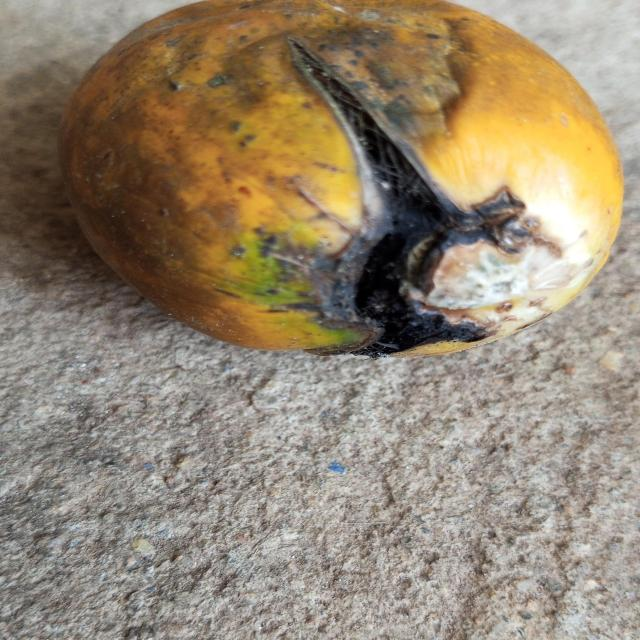damaged: (59, 0, 625, 359)
